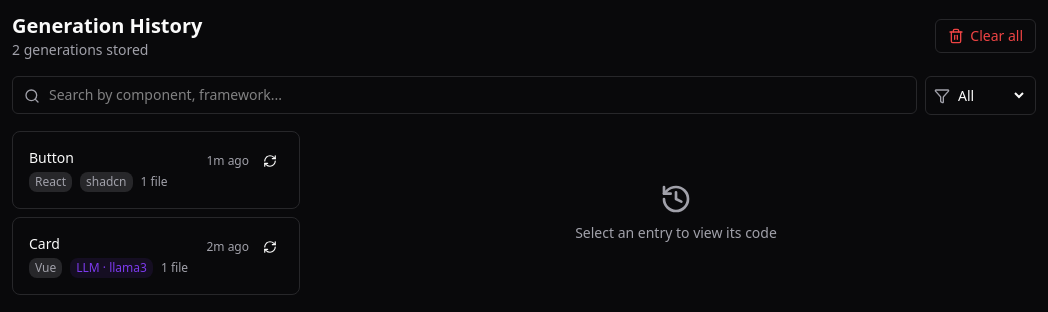
Test: HistoryPage › filters entries by framework selector
Select "vue" in the dropdown at x=990, y=96, box [954, 77, 1027, 114]
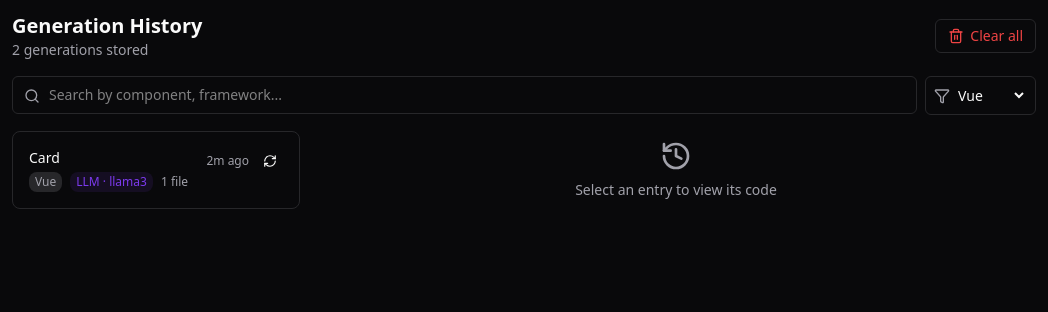
Expected: the text "Card" is shown, [29, 148, 60, 167]
Expected: the button "Button" is gone
